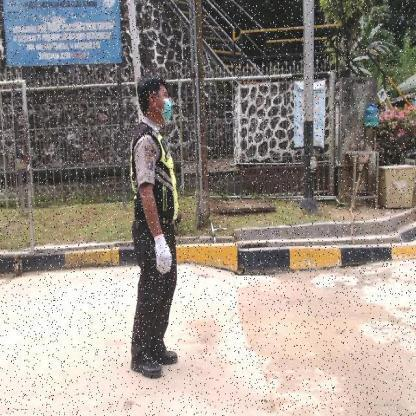boots: (130, 354, 165, 379), (150, 346, 180, 368)
gloves: (151, 231, 173, 280)
mask: (160, 99, 174, 123)
